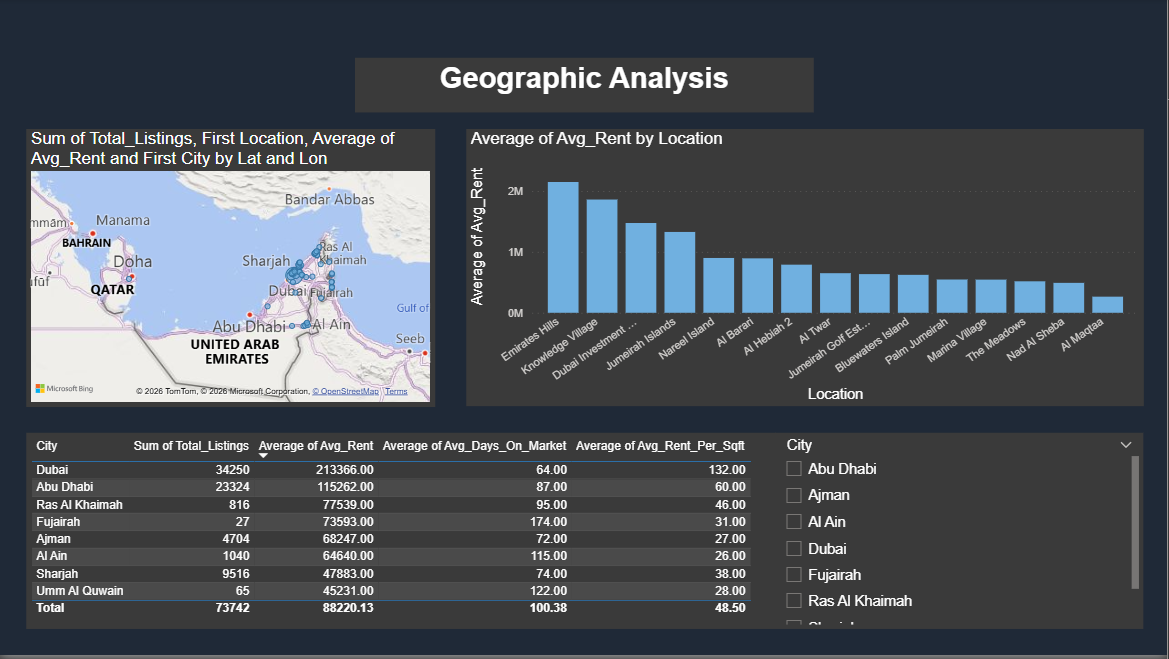

The page's visual inventory and layout, read from the dashboard file:
{"tool":"powerbi","page":{"name":"Geographic Analysis","canvas":[1280,720],"ordinal":1},"visuals":[{"type":"map","fields":{"Y":["summary_by_neighborhood.Lat"],"X":["summary_by_neighborhood.Lon"],"Size":["Sum(summary_by_neighborhood.Total_Listings)"]},"box":[28.8,142.6,448.3,304.4],"z":0},{"type":"columnChart","fields":{"Category":["summary_by_neighborhood.Location"],"Y":["Avg(summary_by_neighborhood.Avg_Rent)"]},"box":[511.4,142.6,743.1,304.4],"z":1000},{"type":"tableEx","fields":{"Values":["summary_by_city.City","Sum(summary_by_city.Total_Listings)","Avg(summary_by_city.Avg_Rent)","Avg(summary_by_city.Avg_Days_On_Market)","Avg(summary_by_city.Avg_Rent_Per_Sqft)"]},"box":[28.8,475.8,821.3,215.3],"z":2000},{"type":"slicer","fields":{"Values":["summary_by_neighborhood.City"]},"box":[850,476,404,215],"z":3000},{"type":"textbox","box":[389.4,64.4,503.2,60.3],"z":4000}]}

Visuals, with their boxes in screenshot pixels (x1, y1, x2, y2), scaled from the page's 1280x720 canvas onto the 1169x659 screenshot:
map - summary_by_neighborhood.Lat x summary_by_neighborhood.Lon: crop(26, 131, 436, 409)
columnChart - summary_by_neighborhood.Location x Avg(summary_by_neighborhood.Avg_Rent): crop(467, 131, 1146, 409)
tableEx - summary_by_city.City x Sum(summary_by_city.Total_Listings): crop(26, 435, 776, 633)
slicer - summary_by_neighborhood.City: crop(776, 436, 1145, 632)
textbox: crop(356, 59, 815, 114)
